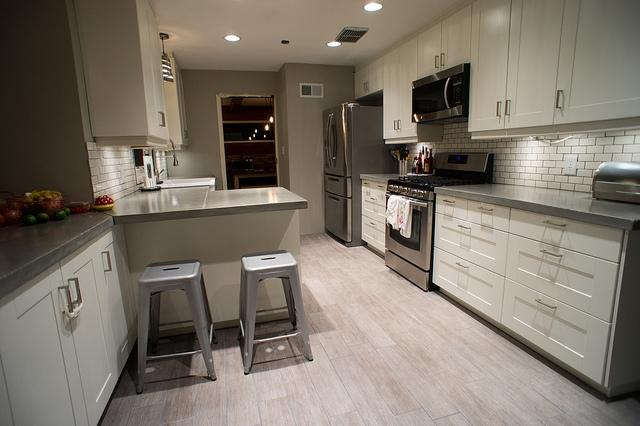lime: (22, 215, 36, 226), (37, 213, 49, 223), (54, 210, 66, 219), (62, 207, 70, 216)
